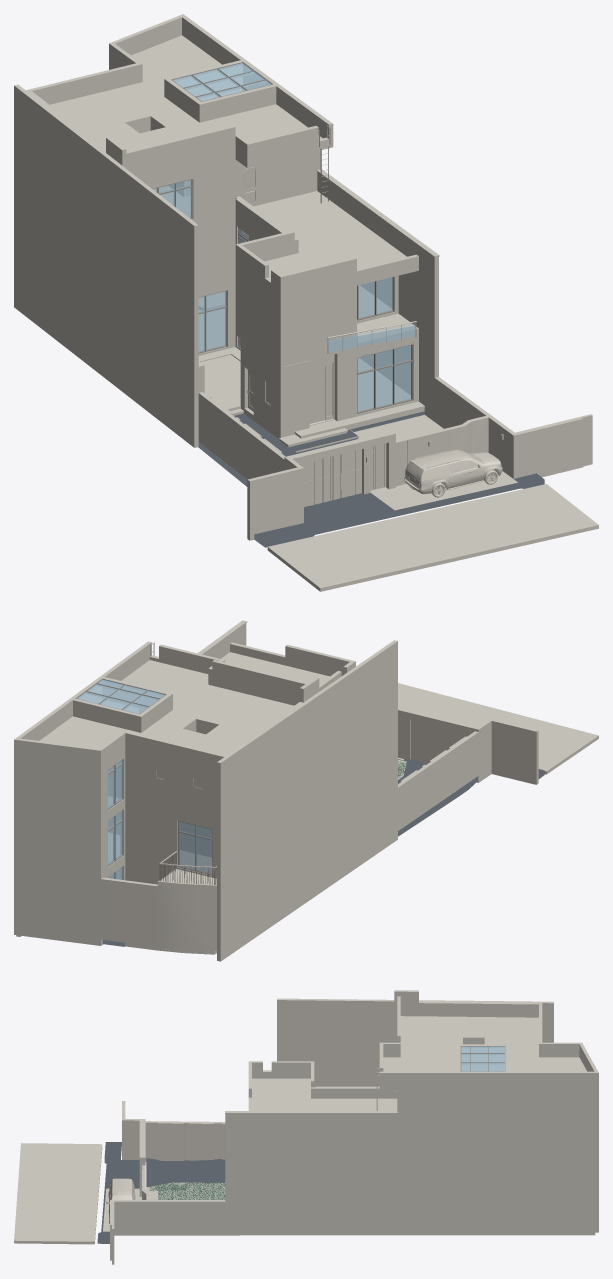
Rendered from maitham-house.glb.
The picture shows the model from 3 angles, top to bottom: view 1: azimuth 30°, elevation 25°; view 2: azimuth 150°, elevation 25°; view 3: azimuth 270°, elevation 25°; orthographic projection. The views are drawn at different scales.
Visible parts, largest first — view 1: stone, glass, ground, metal; view 2: stone, glass, metal, ground; view 3: stone, ground, green, glass, metal.
Part boxes in pixels (box(x1,y1,x2,y2)): stone: box(14, 14, 598, 591); glass: box(153, 63, 416, 411); ground: box(198, 411, 544, 547); metal: box(152, 62, 413, 413); stone: box(14, 620, 598, 961); glass: box(77, 679, 211, 879); metal: box(75, 678, 216, 884); ground: box(102, 759, 544, 946); stone: box(14, 990, 598, 1264); ground: box(97, 1142, 225, 1243); green: box(149, 1182, 225, 1199); glass: box(461, 1046, 504, 1071); metal: box(460, 1046, 505, 1071).
Bounding box in the file's own units: 48.49 × 33.19 × 100.
